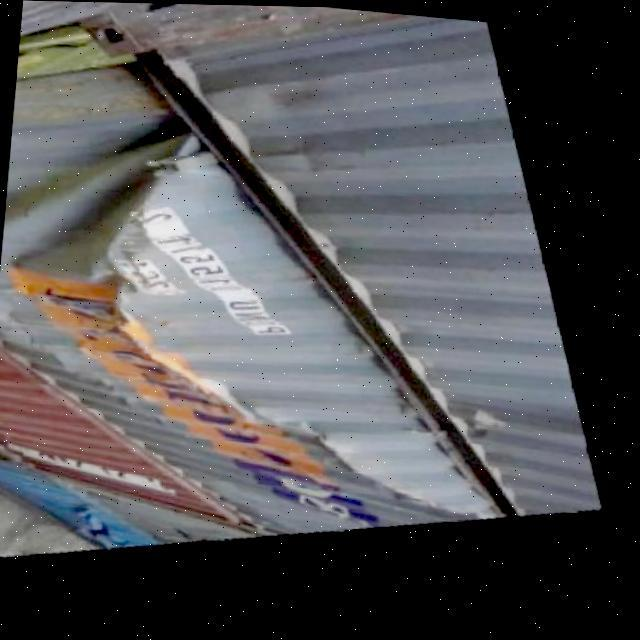dent: (160, 356, 401, 541), (6, 113, 190, 290)
